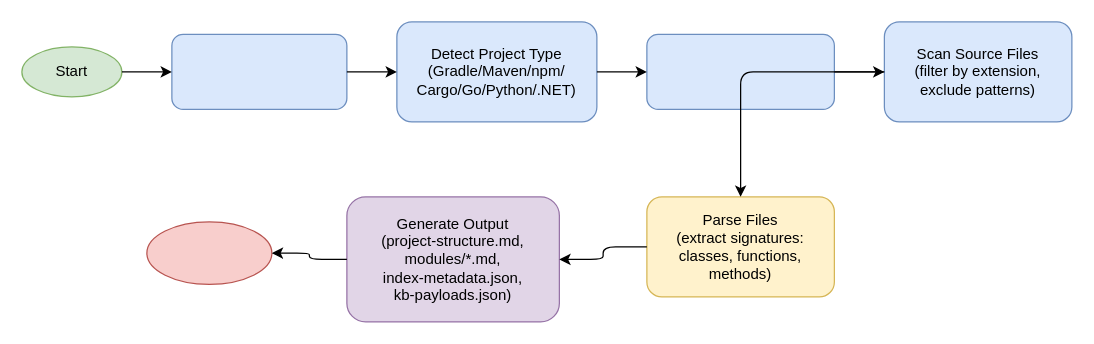
The diagram is 1094 pixels wide and 344 high, and some of its shapes have lost their labels. The shapes that lost their labels are listed below. From the top down, each one's centre as x and y in pixels, then its label:
At point (259, 71): "Read Config (index-config.json)".
At point (740, 71): "Discover Modules (packages, subprojects)".
At point (209, 252): "End (Print Summary)".
